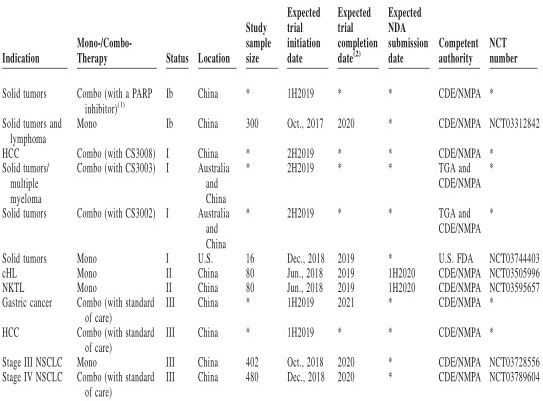column: (75, 1, 155, 401), (2, 1, 62, 401), (487, 1, 540, 401), (437, 1, 482, 401), (336, 1, 378, 401), (387, 1, 429, 401), (285, 1, 324, 401), (196, 1, 230, 401), (244, 1, 272, 401), (164, 1, 189, 401)
row: (1, 177, 543, 192), (1, 86, 543, 100), (1, 133, 543, 147), (1, 310, 543, 324), (1, 355, 543, 369), (1, 370, 543, 384), (1, 6, 542, 20), (1, 37, 543, 50), (1, 51, 543, 64), (1, 102, 543, 115), (1, 147, 543, 160), (1, 161, 543, 174), (1, 193, 543, 206), (1, 206, 543, 219), (1, 251, 543, 264), (1, 296, 543, 309), (1, 326, 543, 339), (1, 386, 543, 399), (1, 21, 542, 34), (1, 117, 543, 129), (1, 237, 543, 249), (1, 281, 543, 293), (1, 342, 543, 354), (1, 223, 543, 234), (1, 268, 543, 278)
